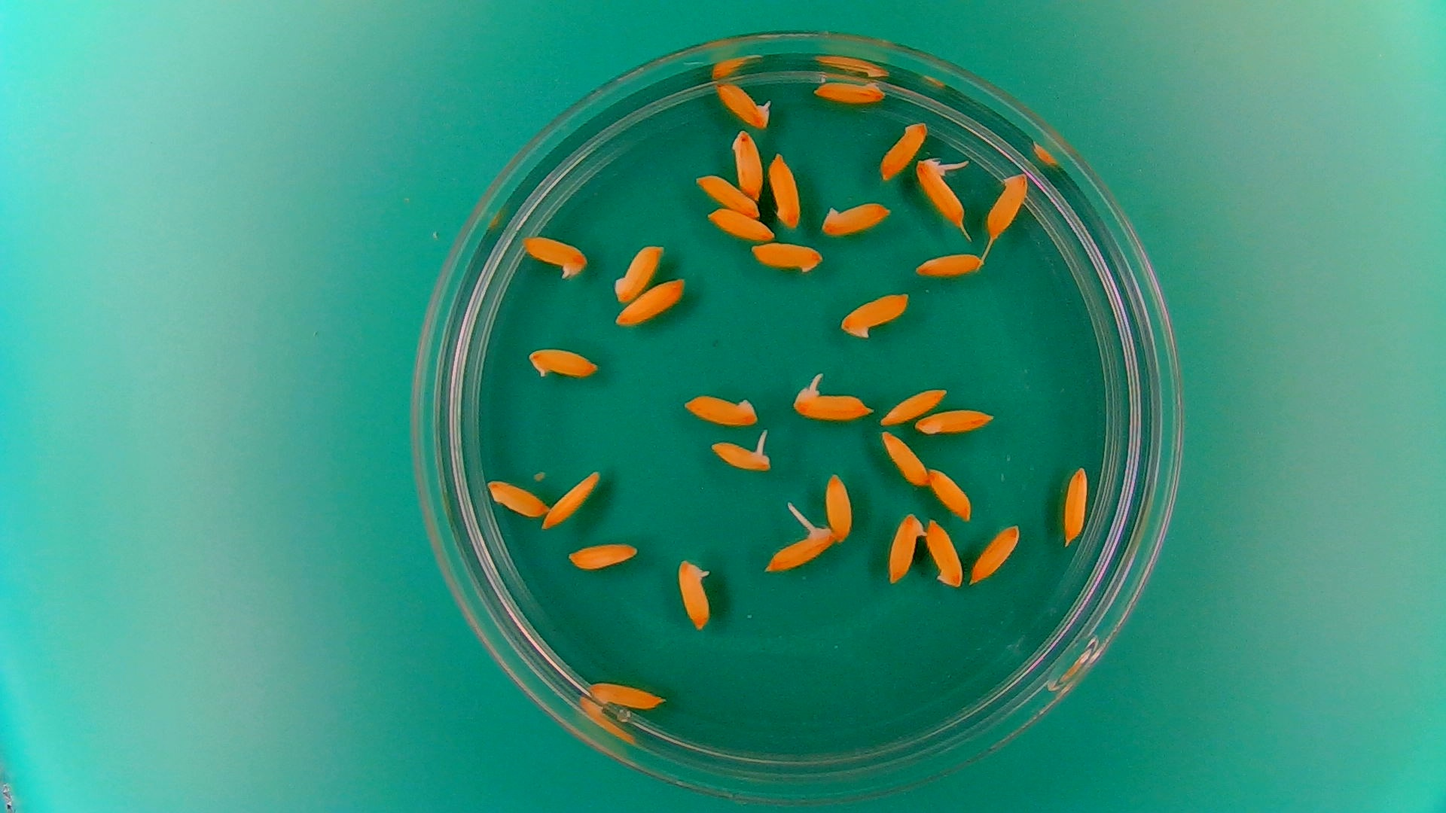no: (613, 273, 688, 327), (984, 166, 1036, 242), (610, 237, 667, 306), (541, 467, 602, 531), (838, 288, 914, 337), (517, 231, 590, 281), (968, 521, 1023, 586), (875, 117, 930, 181), (691, 170, 761, 218), (679, 390, 761, 429), (524, 341, 602, 382), (923, 517, 966, 589), (879, 428, 930, 488), (885, 509, 926, 583), (925, 463, 976, 522), (766, 150, 804, 228), (585, 678, 667, 714), (728, 125, 766, 202), (819, 199, 894, 238), (746, 240, 825, 276), (877, 385, 948, 425), (911, 405, 996, 437), (484, 478, 550, 519), (1060, 461, 1092, 545), (702, 207, 777, 242), (823, 467, 857, 543), (566, 538, 641, 572), (810, 76, 888, 108), (910, 249, 985, 282)
yes: (913, 158, 967, 224), (765, 525, 834, 574), (710, 79, 774, 131), (674, 555, 715, 633), (790, 387, 870, 425), (708, 443, 772, 473)
